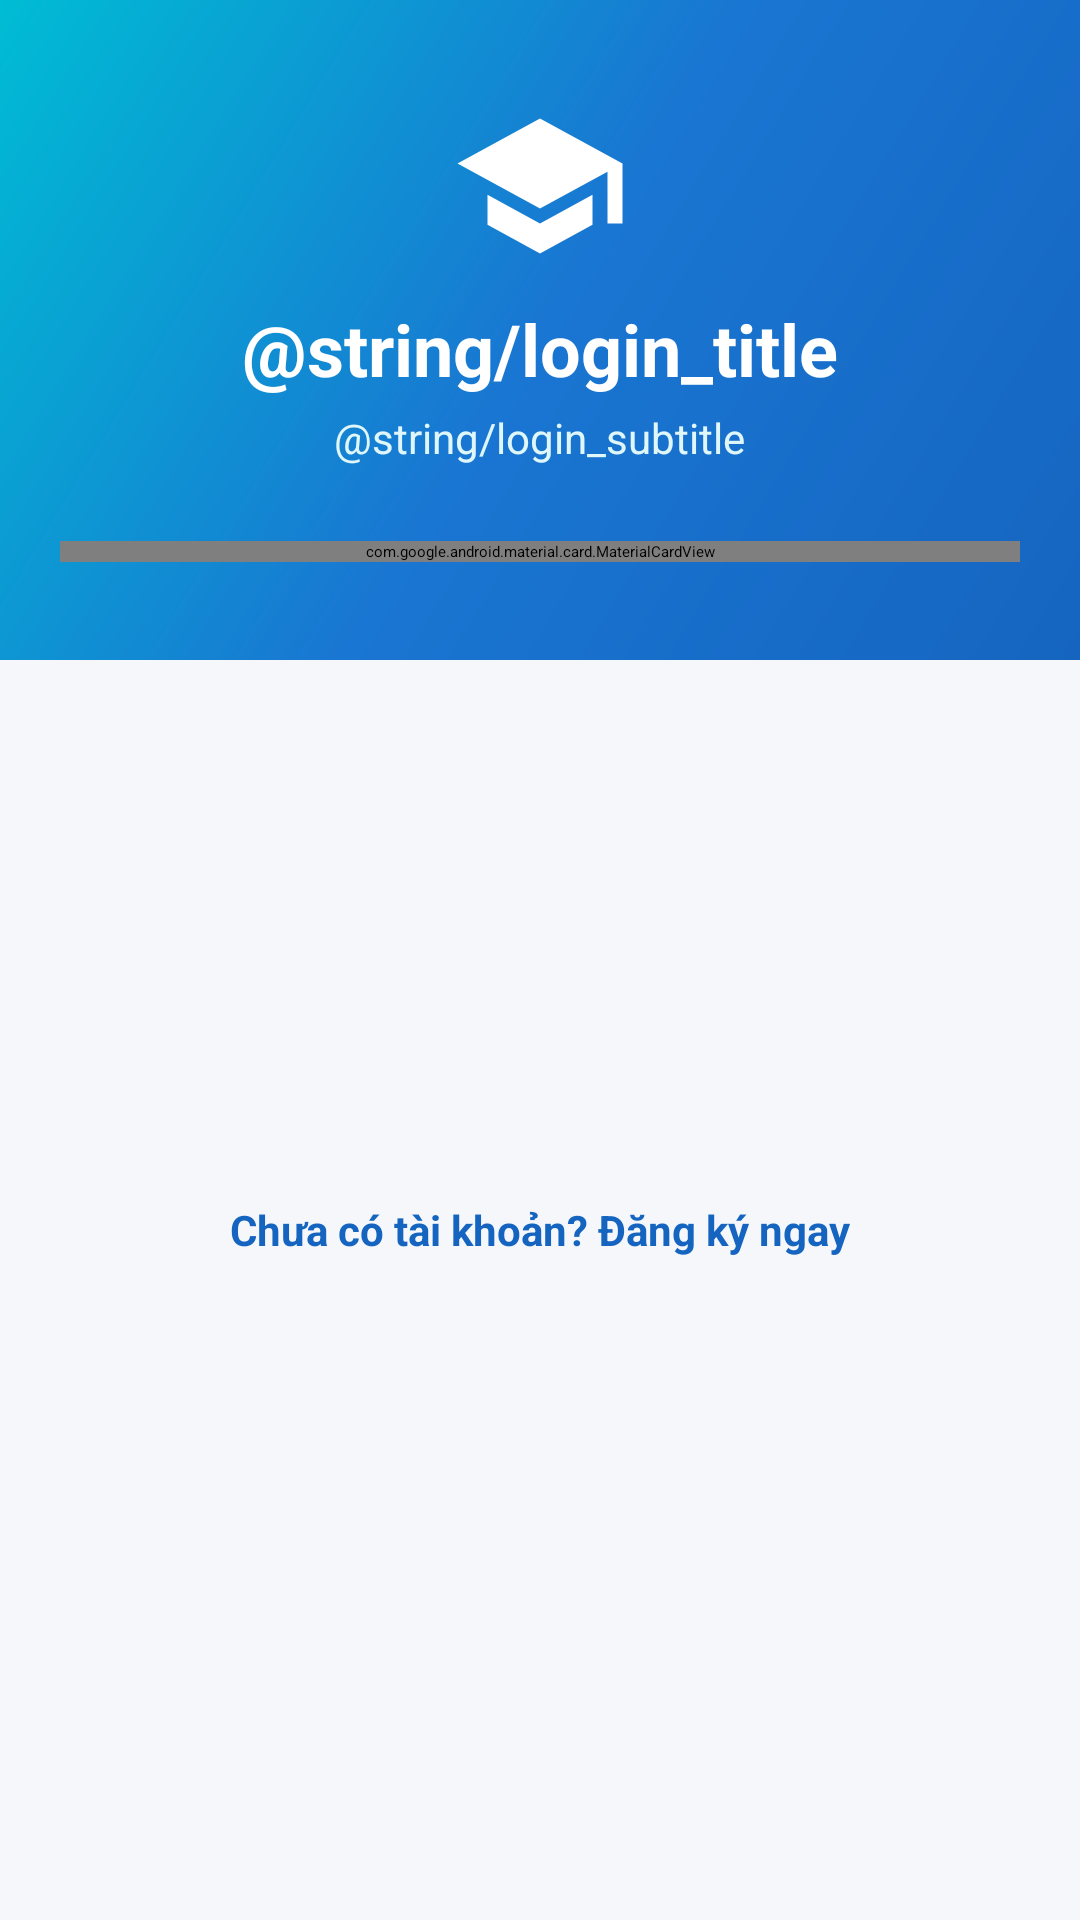

Icons on this 1080 × 1920 Android screen, each with the point to tap as (x,y):
school: (540,186)
